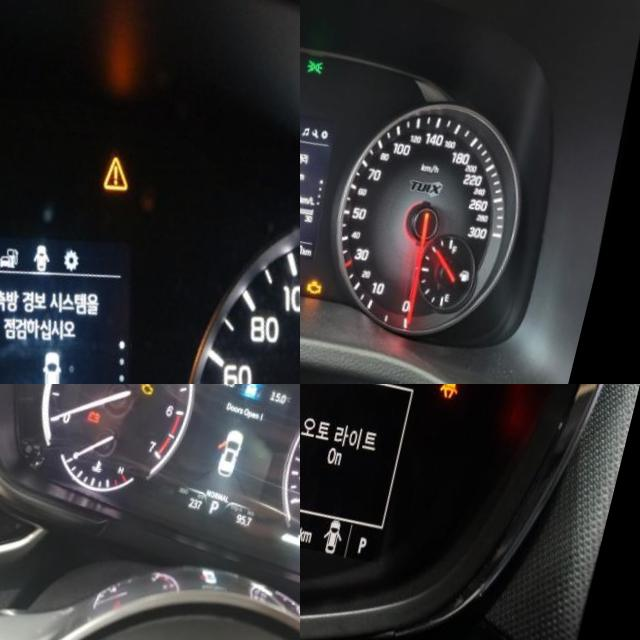Central Warning lamp: (105, 131, 144, 177)
SideLamp: (315, 40, 334, 59)
